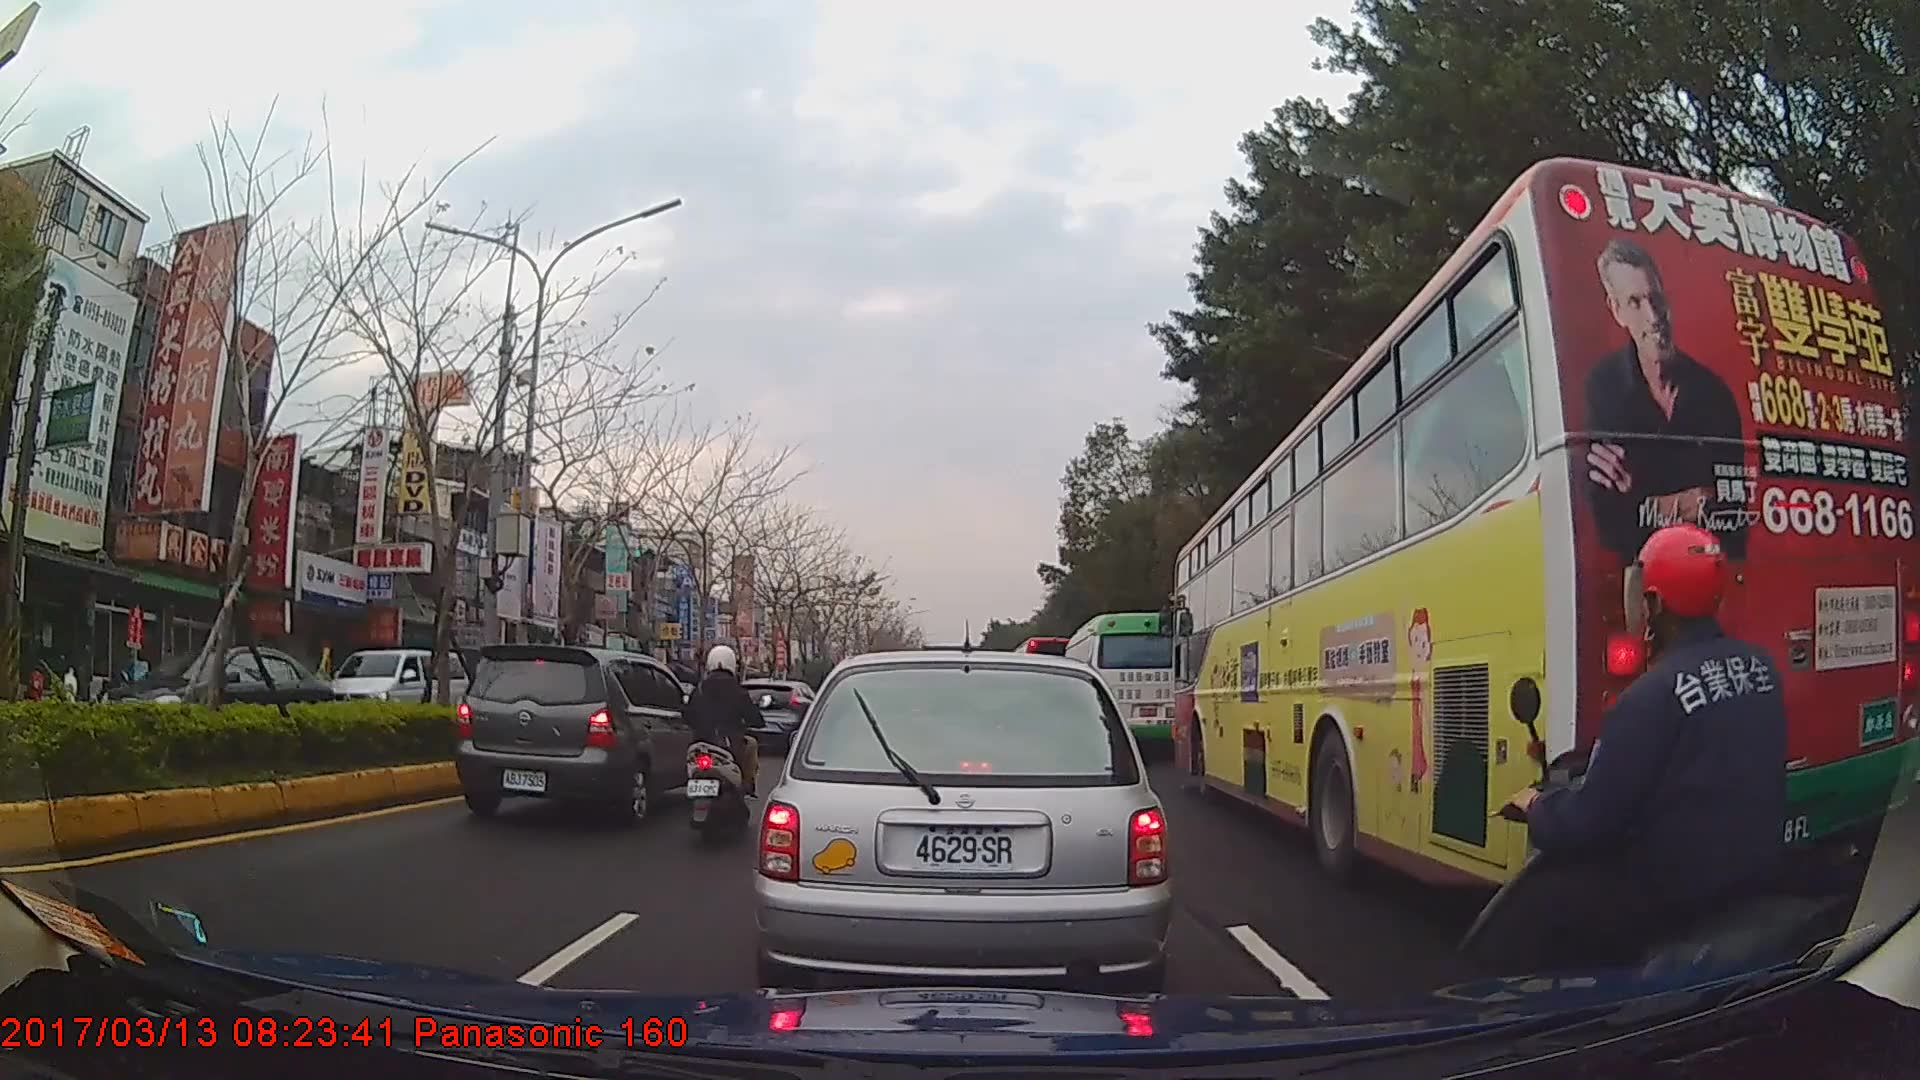rider: (1476, 514, 1836, 1070), (681, 643, 765, 838)
vehicle: (1172, 156, 1914, 898), (754, 651, 1172, 1004), (456, 643, 702, 823), (97, 641, 335, 755), (1062, 610, 1188, 757), (325, 649, 471, 739), (718, 676, 820, 755)
